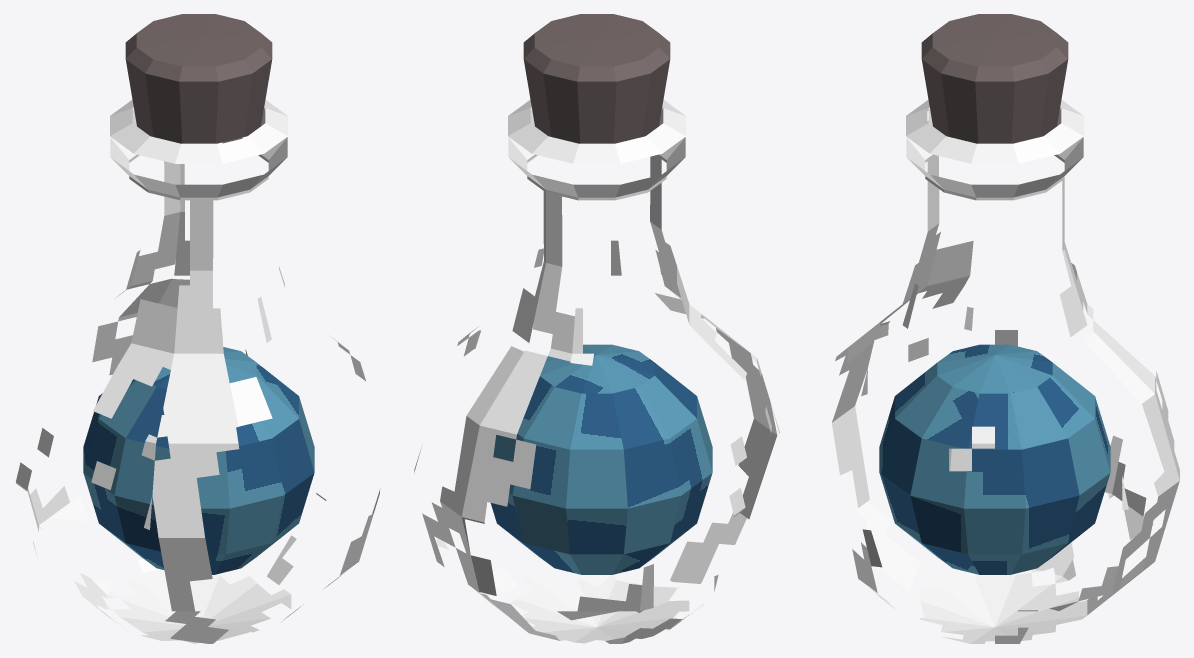
Rendered from spell_blue.gltf.
3 renders of one model, left to right at view 1: azimuth 30°, elevation 25°; view 2: azimuth 150°, elevation 25°; view 3: azimuth 270°, elevation 25°, orthographic.
Parts seen in each view (by area): view 1: potion, sphere; view 2: potion, sphere; view 3: potion, sphere.
Boxes of the visible parts, x1=… form: potion: x1=16, y1=14, x2=380, y2=643; sphere: x1=83, y1=347, x2=314, y2=574; potion: x1=414, y1=14, x2=779, y2=643; sphere: x1=490, y1=344, x2=712, y2=574; potion: x1=832, y1=14, x2=1179, y2=643; sphere: x1=879, y1=344, x2=1110, y2=574.
Bounding box in the file's own units: 1 × 1.76 × 1.
Materials: 2 (2 with a texture image).
